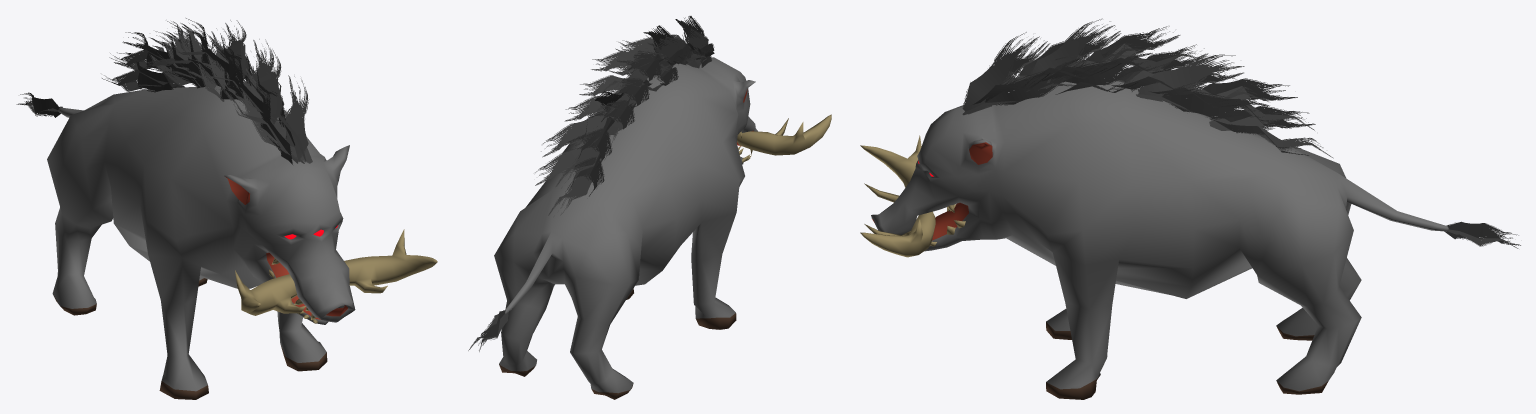
The model's file is boar_lp_3.fbx.
The picture shows the model from 3 angles, left to right: view 1: azimuth 30°, elevation 25°; view 2: azimuth 150°, elevation 25°; view 3: azimuth 270°, elevation 25°; orthographic projection. The views are drawn at different scales.
Parts seen in each view (by area): view 1: boar_lp_2; view 2: boar_lp_2; view 3: boar_lp_2.
Boxes of the visible parts, x1=… form: boar_lp_2: x1=16, y1=18, x2=437, y2=399; boar_lp_2: x1=468, y1=16, x2=831, y2=399; boar_lp_2: x1=860, y1=18, x2=1520, y2=399.
Bounding box in the file's own units: 55.13 × 96.13 × 168.
